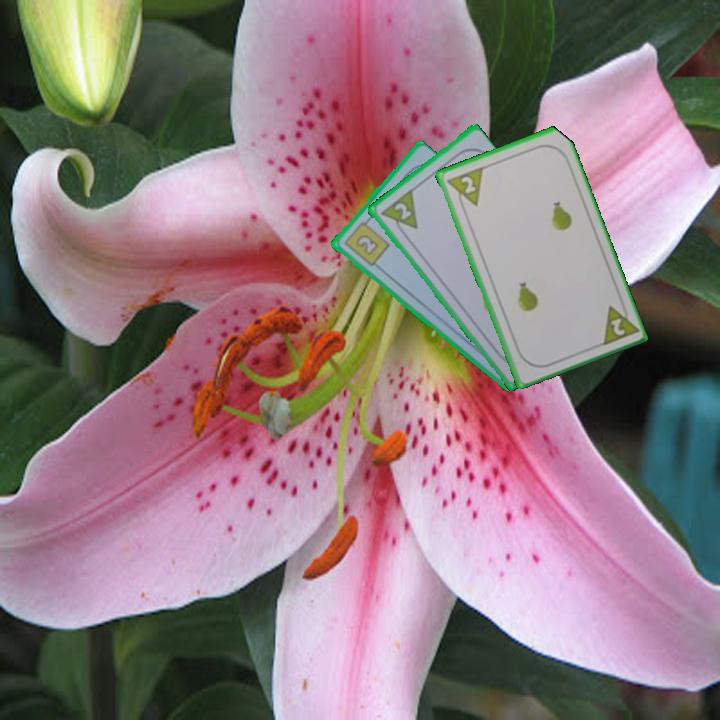2b: (340, 215, 392, 269)
2p: (597, 297, 640, 349), (442, 163, 485, 213), (390, 199, 414, 223)
